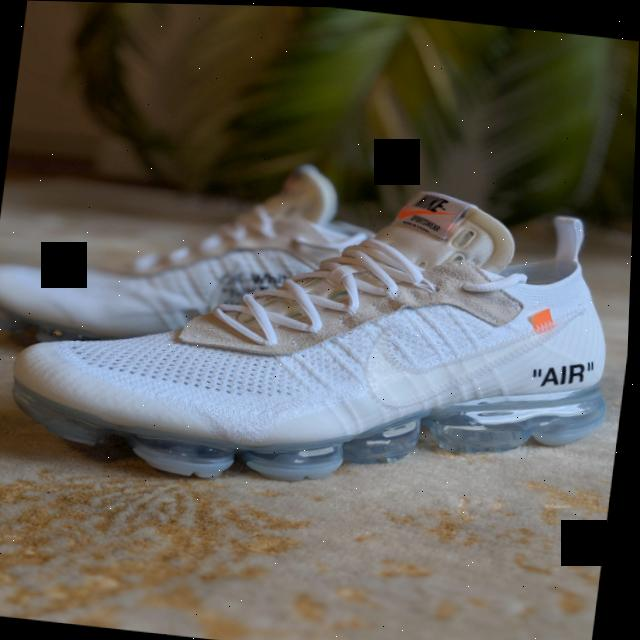shoes: (0, 133, 636, 530), (0, 120, 425, 384)
